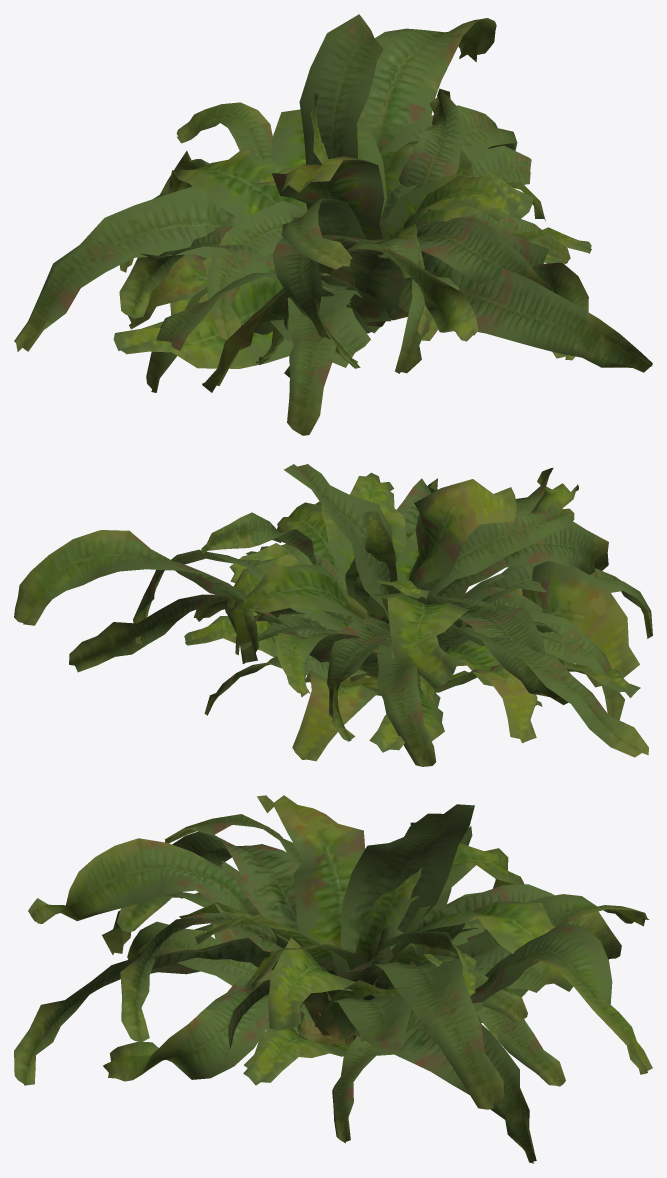
The model's file is fern_02.glb.
The picture shows the model from 3 angles, top to bottom: view 1: azimuth 30°, elevation 25°; view 2: azimuth 150°, elevation 25°; view 3: azimuth 270°, elevation 25°; orthographic projection. The views are drawn at different scales.
Parts seen in each view (by area): view 1: fern_02_b, fern_02_c, fern_02_d, fern_02_a; view 2: fern_02_b, fern_02_c, fern_02_a, fern_02_d; view 3: fern_02_b, fern_02_c, fern_02_a, fern_02_d.
Part boxes in pixels (left/top/right/bottom): fern_02_b: left=14, top=14, right=652, bottom=435; fern_02_c: left=113, top=93, right=588, bottom=377; fern_02_d: left=171, top=149, right=562, bottom=364; fern_02_a: left=170, top=88, right=548, bottom=340; fern_02_b: left=14, top=464, right=652, bottom=761; fern_02_c: left=69, top=478, right=640, bottom=766; fern_02_a: left=201, top=512, right=542, bottom=713; fern_02_d: left=229, top=532, right=561, bottom=752; fern_02_b: left=14, top=795, right=652, bottom=1143; fern_02_c: left=103, top=814, right=649, bottom=1163; fern_02_a: left=137, top=896, right=565, bottom=1086; fern_02_d: left=179, top=902, right=527, bottom=1068.
Bounding box in the file's own units: 0.9897 × 0.4277 × 0.8937.
1 material, 1 textured.
